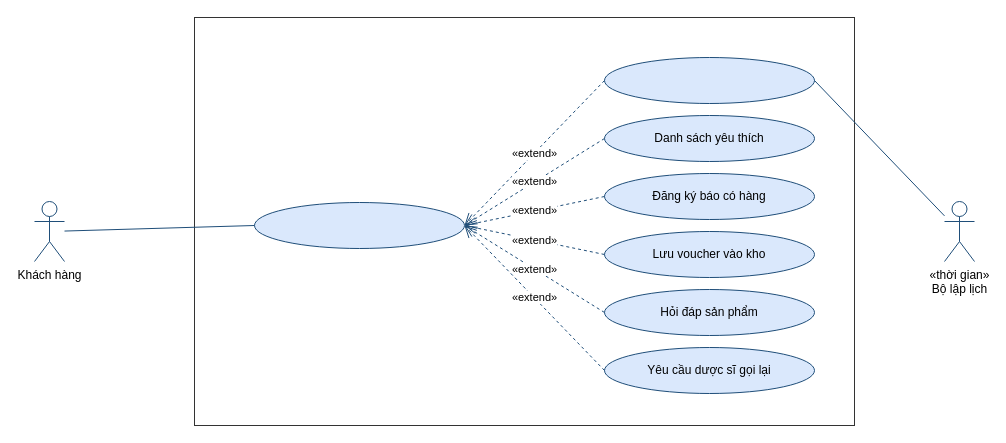
Some shapes in this 1006 by 443 pixel diagram are drawn without their labels. The box of each missing label's shape, as (x1, y1, x2, y2) in pixels:
Chăm sóc khách hàng: (254, 202, 464, 248)
Đặt nhắc uống thuốc, nhắc mua lại: (604, 56, 814, 104)
